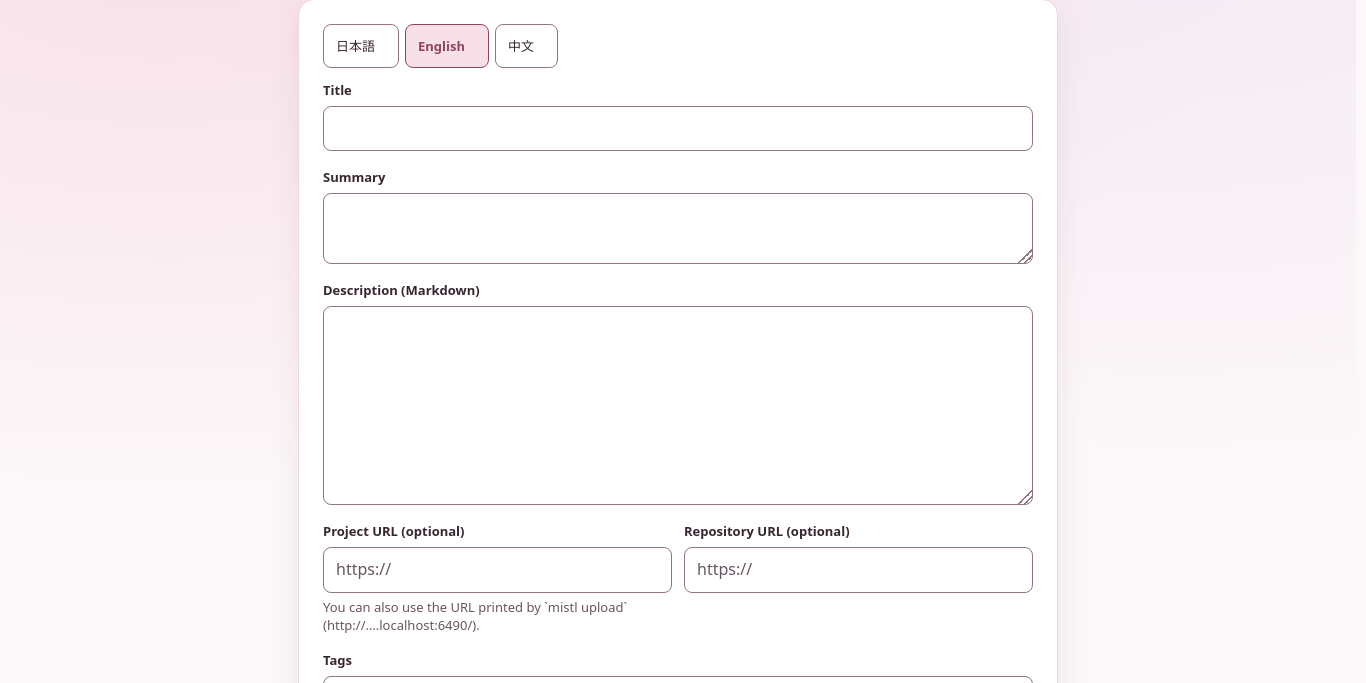
debounces the automatic preview URL and hides the preview when media is added
The width and height of the screenshot is (1366, 683).
Type "http://example.com/game" into the 2nd field at (498, 570), box [323, 547, 672, 593]
Wait 350 ms
(page scrolled)
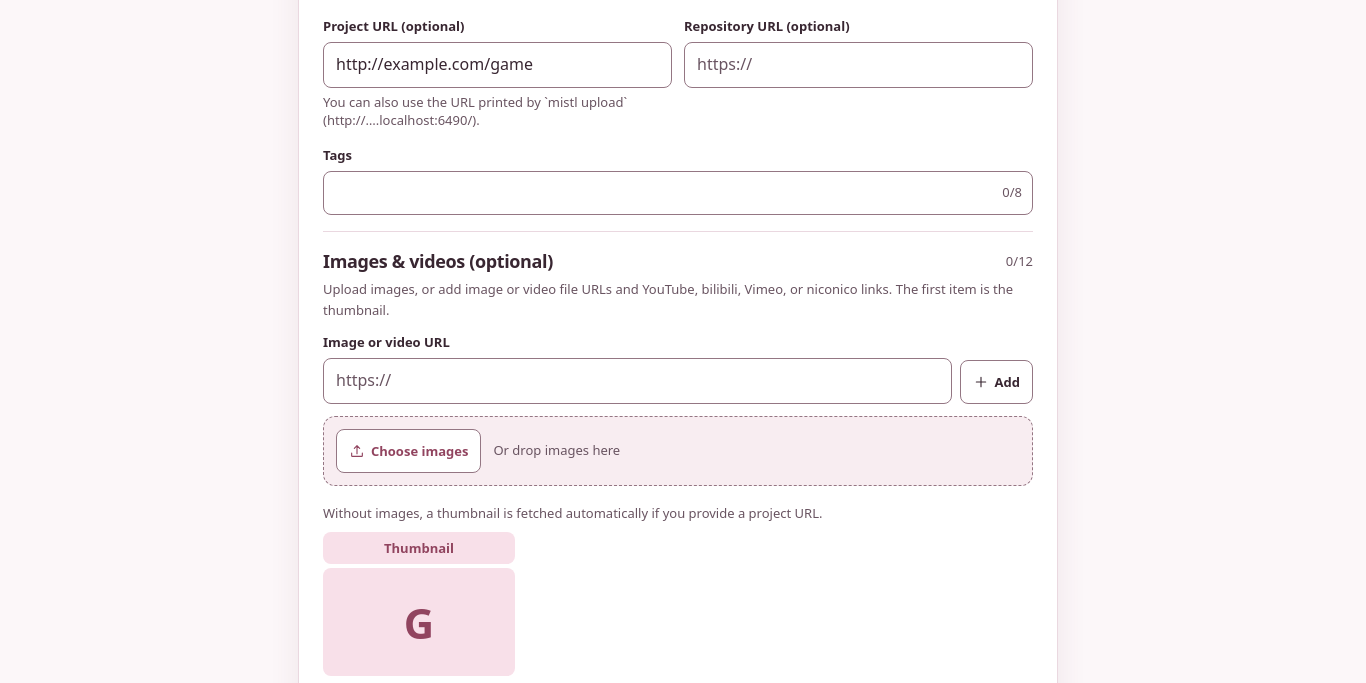
Result: the element with class "media-editor-auto-cover" is shown at [323, 532, 515, 676]
Type "https://example.com/gallery.png" into the field labelled "Image or video URL" at (637, 381), box [323, 358, 952, 404]
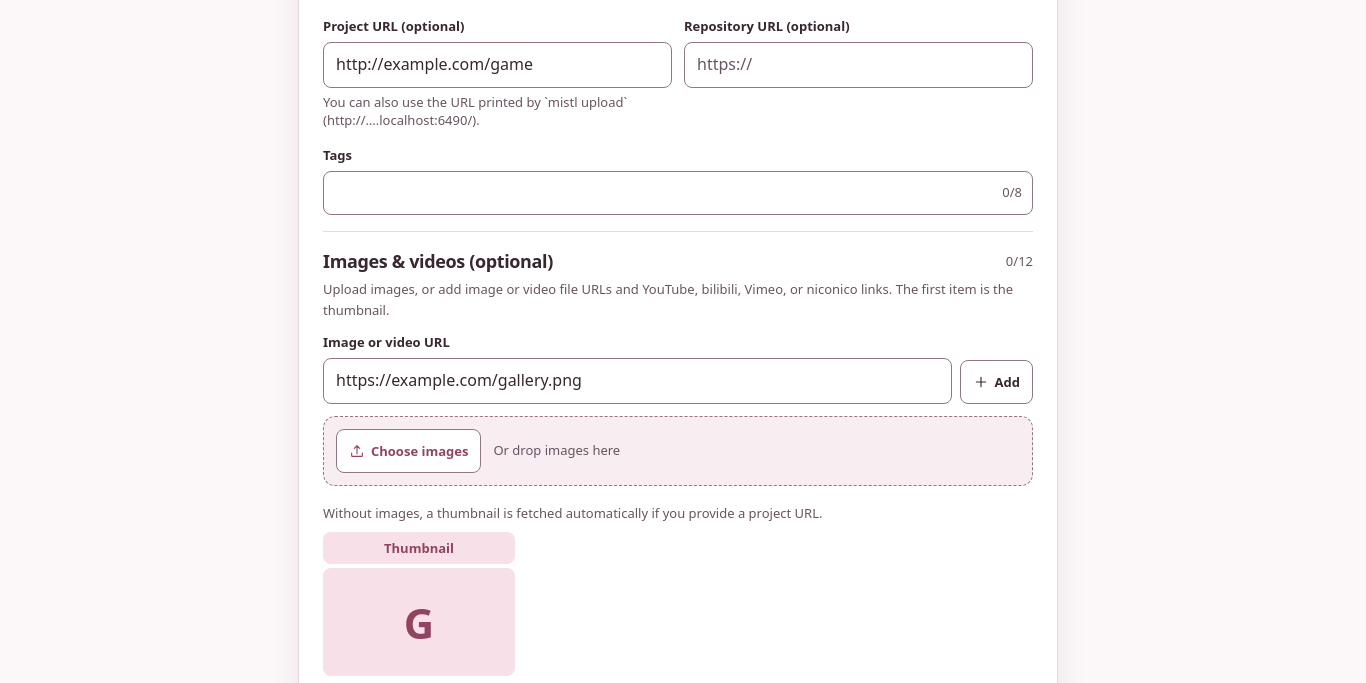
Click the button "Add" at (996, 382), box [960, 360, 1033, 404]
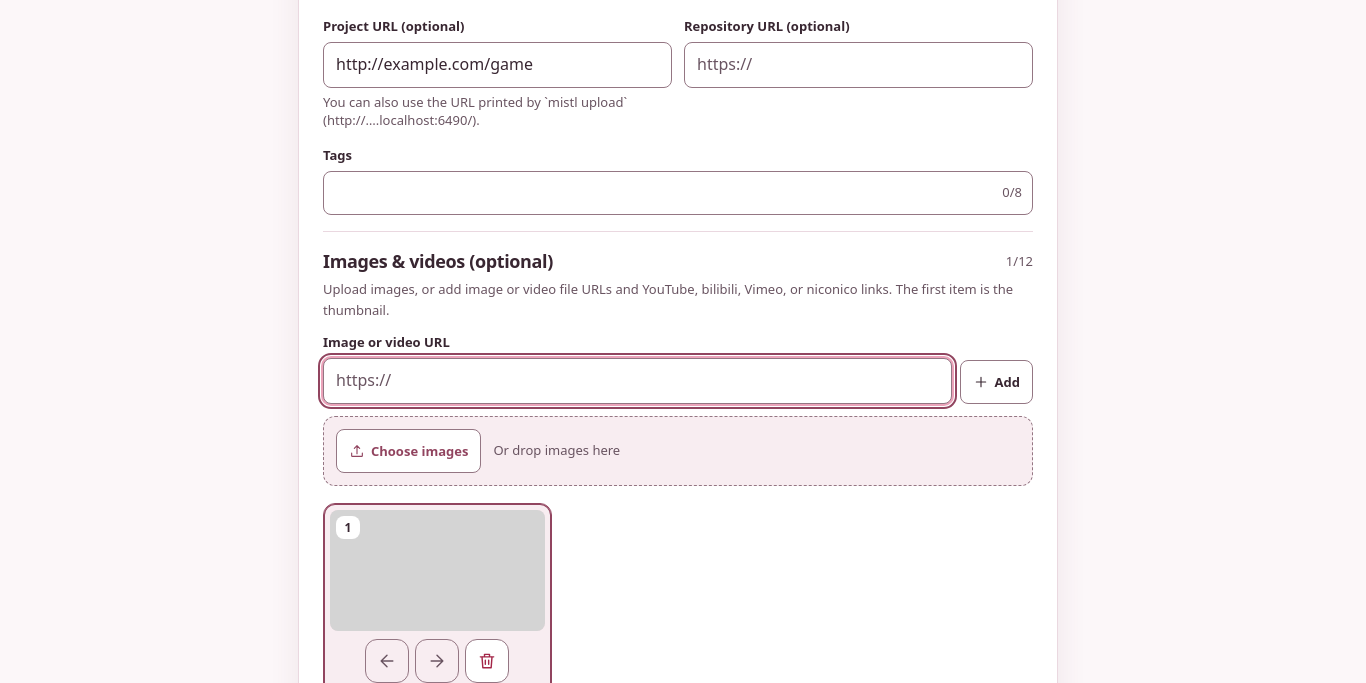
Result: the element with class "media-editor-auto-cover" is gone
